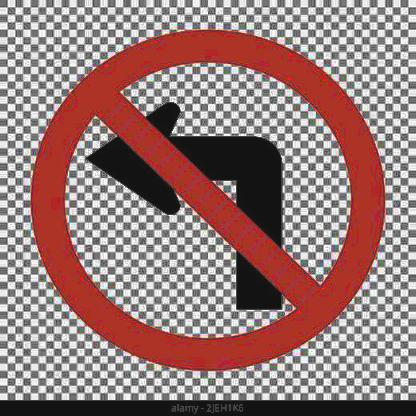No left turn: (35, 24, 389, 374)
